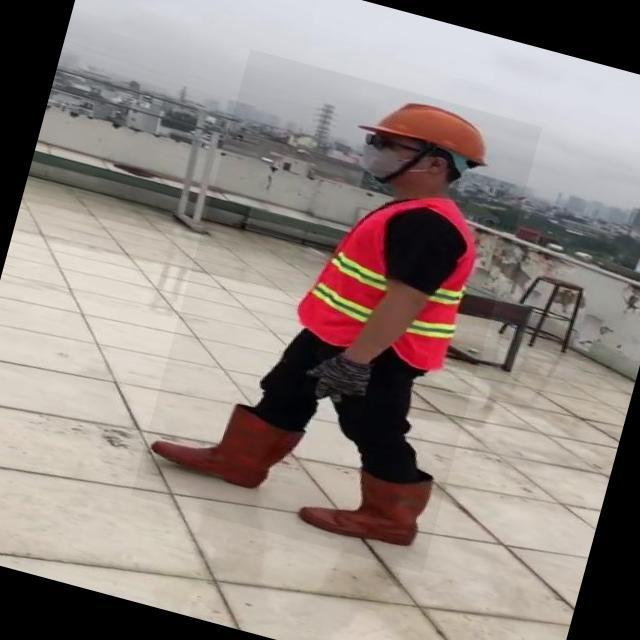Gloves: (301, 348, 377, 410)
Helmet: (366, 87, 499, 167)
Human: (131, 50, 542, 574)
Safety Boot: (144, 385, 305, 499), (296, 451, 432, 556)
Safety Vest: (288, 170, 484, 373)
